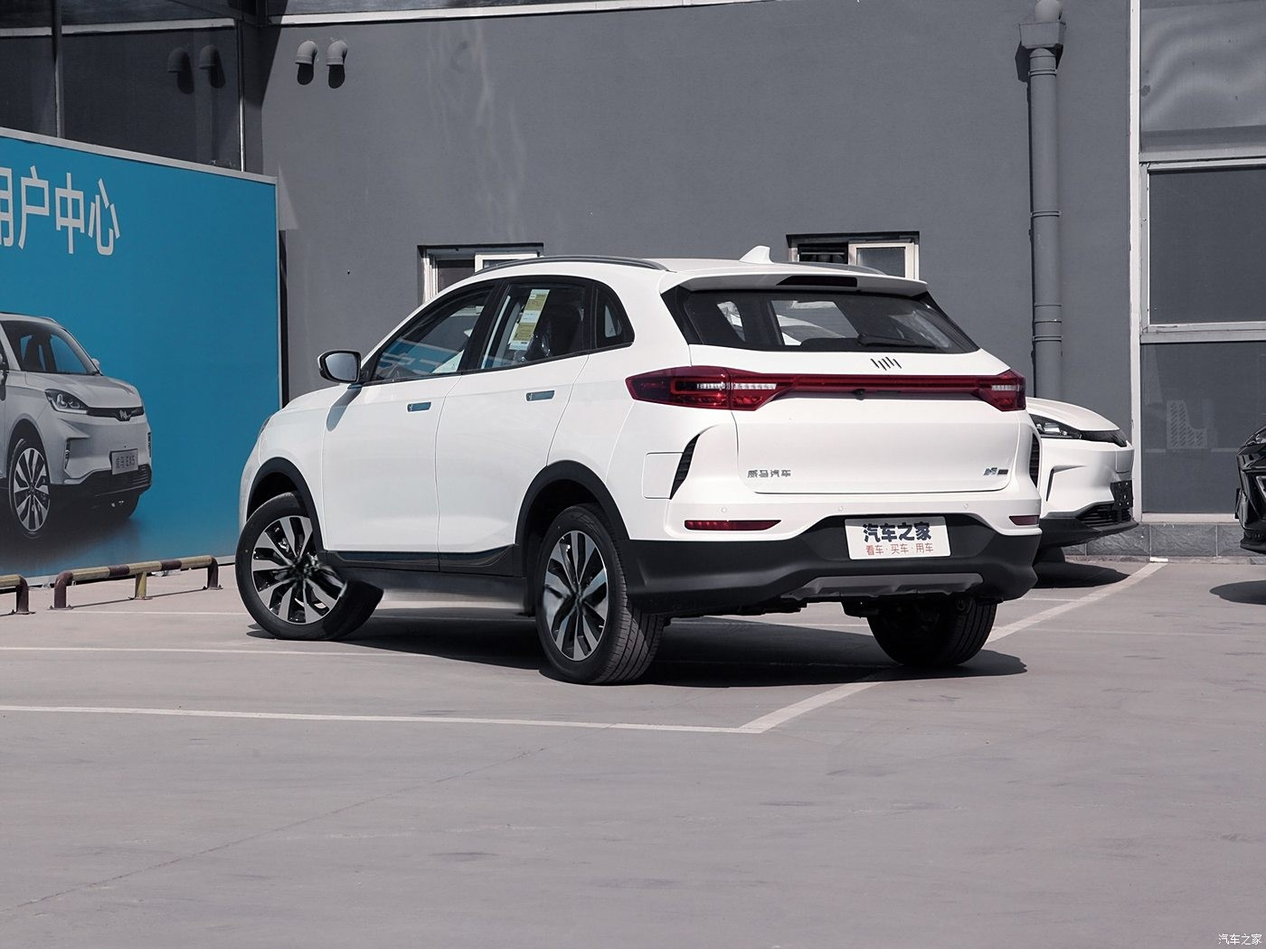WELTMEISTER: (871, 357, 902, 370)
